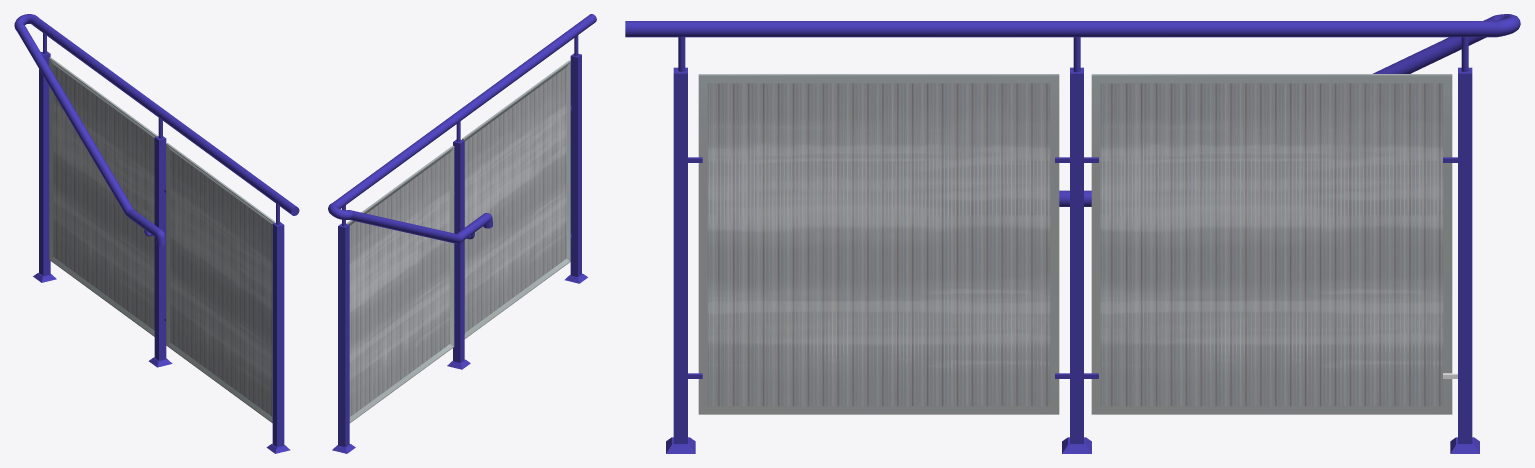
Rendered from barierka.fbx.
The picture shows the model from 3 angles, left to right: view 1: azimuth 30°, elevation 25°; view 2: azimuth 150°, elevation 25°; view 3: azimuth 270°, elevation 25°; orthographic projection. The views are drawn at different scales.
Visible parts, largest first — view 1: Barierka:Mesh12, Barierka:Barierka:Mesh12, Barierka:Barierka:Mesh13; view 2: Barierka:Mesh12, Barierka:Barierka:Mesh12, Barierka:Barierka:Mesh13; view 3: Barierka:Mesh12, Barierka:Barierka:Mesh12, Barierka:Barierka:Mesh13.
Part boxes in pixels (x1,y1,x2,y2): Barierka:Mesh12: (166, 143, 275, 422); Barierka:Barierka:Mesh12: (49, 57, 157, 336); Barierka:Barierka:Mesh13: (14, 14, 299, 453); Barierka:Mesh12: (462, 60, 570, 338); Barierka:Barierka:Mesh12: (346, 145, 454, 423); Barierka:Barierka:Mesh13: (328, 14, 596, 453); Barierka:Mesh12: (698, 74, 1059, 414); Barierka:Barierka:Mesh12: (1091, 74, 1452, 414); Barierka:Barierka:Mesh13: (625, 14, 1520, 453).
Size of the model in its own units: 8.57 by 79.2 by 150.
